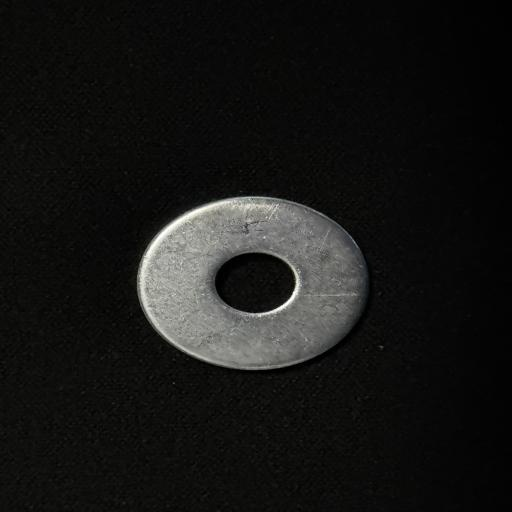Product: (137, 197, 369, 370)
Scratch: (296, 285, 364, 303)
surface damage: (223, 215, 270, 240)
